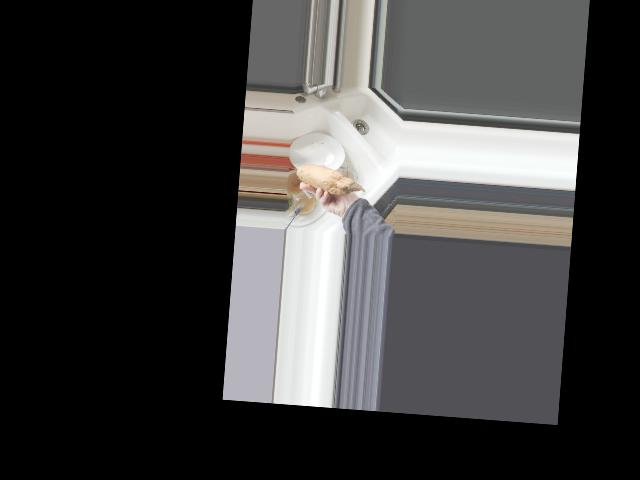sweet_potato: (295, 161, 367, 196)
